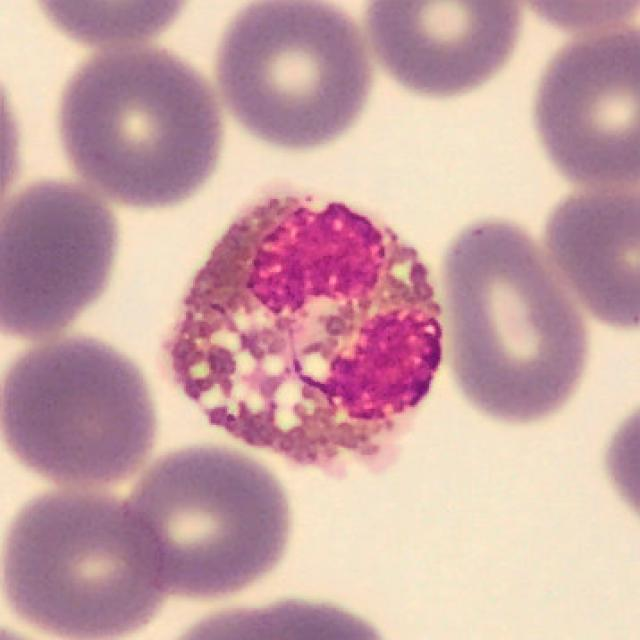Eosinofilo: (164, 196, 443, 480)
